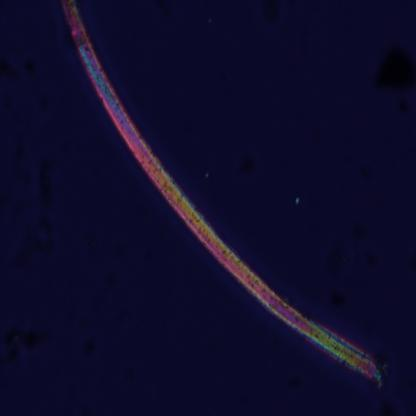Microfibre: (60, 1, 396, 390)
